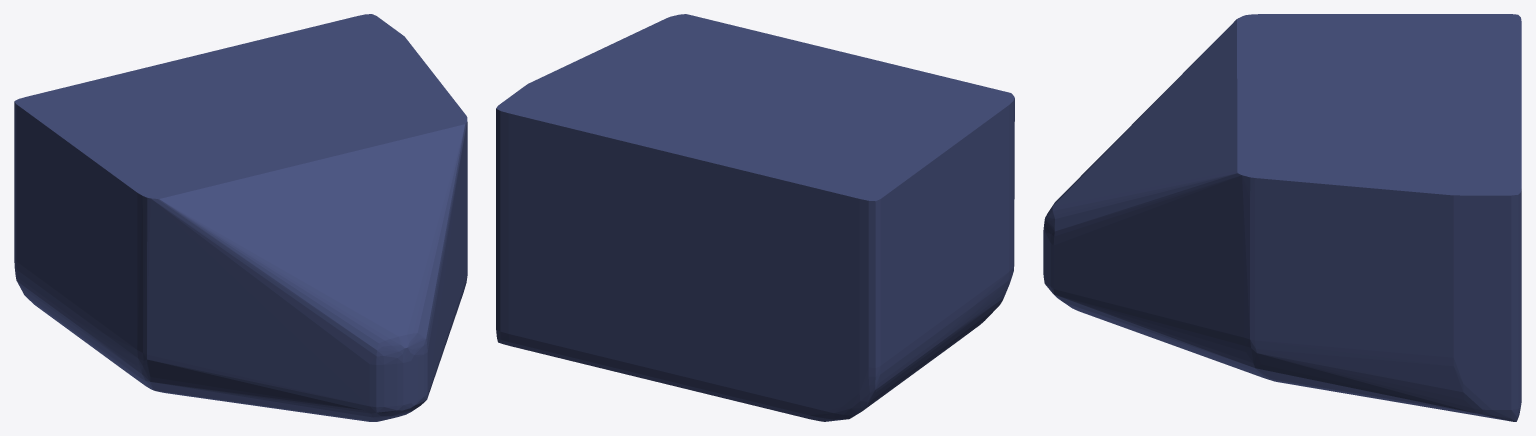
Rendered from right_palm_part_16.obj.
The picture shows the model from 3 angles, left to right: view 1: azimuth 30°, elevation 25°; view 2: azimuth 150°, elevation 25°; view 3: azimuth 270°, elevation 25°; orthographic projection. The views are drawn at different scales.
Size of the model in its own units: 20.45 by 12.02 by 22.77.
